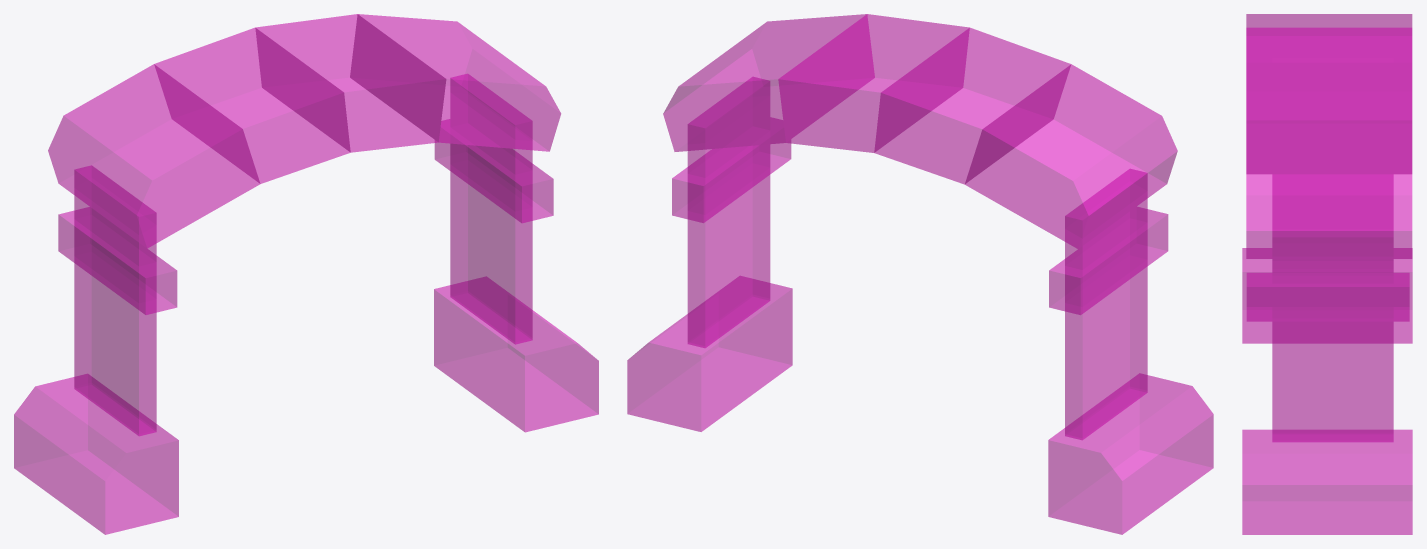
The model's file is SM_Prop_Wedding_Arch_02_Collision.fbx.
3 renders of one model, left to right at view 1: azimuth 30°, elevation 25°; view 2: azimuth 150°, elevation 25°; view 3: azimuth 270°, elevation 25°, orthographic. The views are drawn at different scales.
Parts seen in each view (by area): view 1: SM_Prop_Wedding_Arch_02_Collision; view 2: SM_Prop_Wedding_Arch_02_Collision; view 3: SM_Prop_Wedding_Arch_02_Collision.
Boxes of the visible parts, left/top/right/bottom form: SM_Prop_Wedding_Arch_02_Collision: left=14, top=14, right=598, bottom=534; SM_Prop_Wedding_Arch_02_Collision: left=627, top=14, right=1213, bottom=534; SM_Prop_Wedding_Arch_02_Collision: left=1242, top=14, right=1412, bottom=534.
Bounding box in the file's own units: 641 × 474 × 205.
